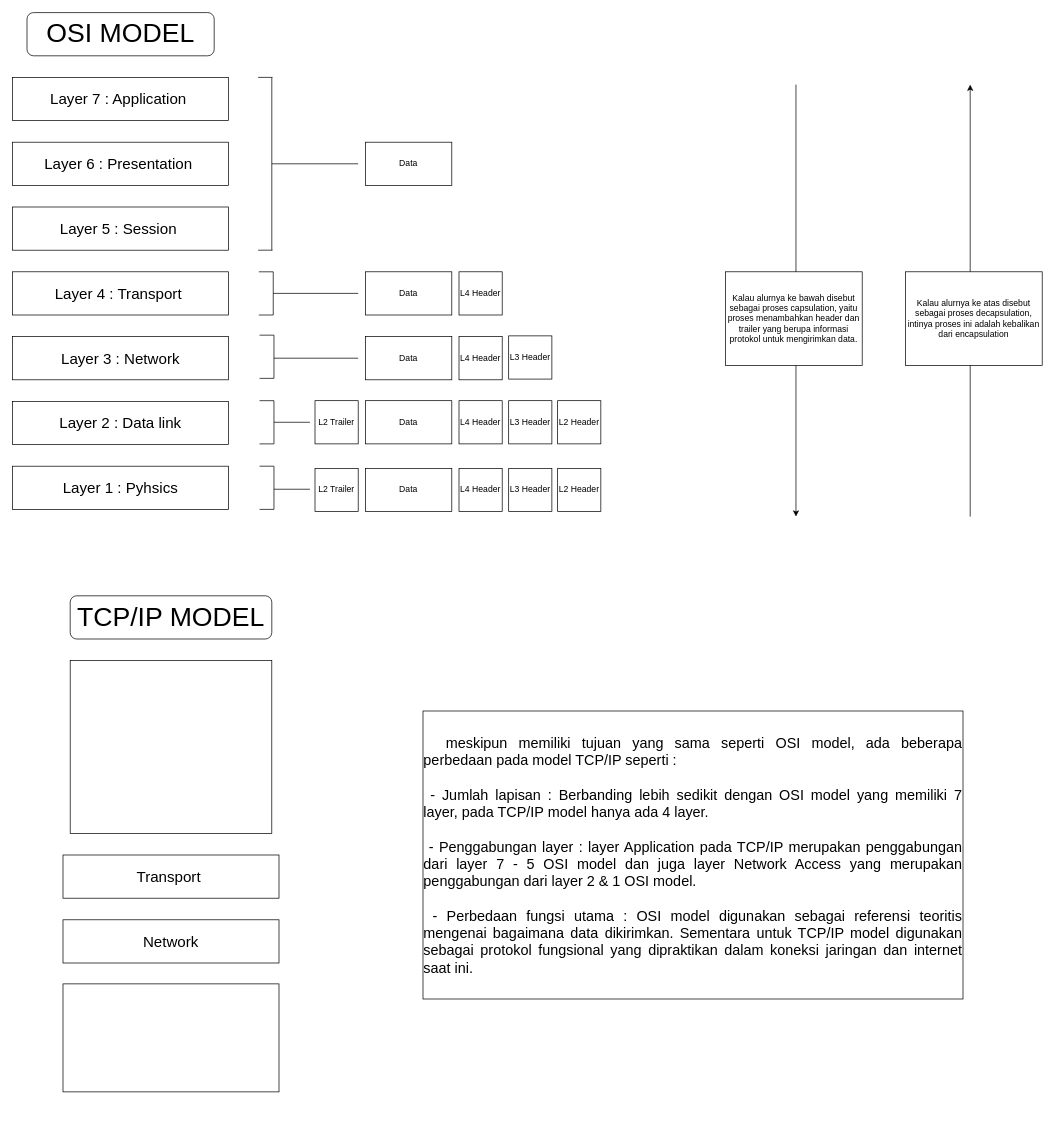
Image size: 1055x1141. Some labels were removed from this diagram. The shapes that lost their labels are listed below. From the top down, each one's box as (x1, y1, x2, y2) in pixels, then its label:
(69, 660, 272, 833): Application
(62, 983, 279, 1092): Network access
